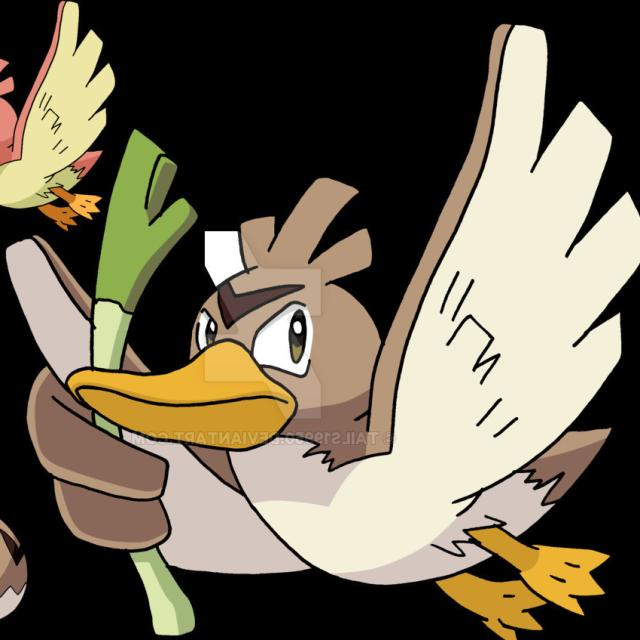Farfetchd: (74, 200, 594, 588)
